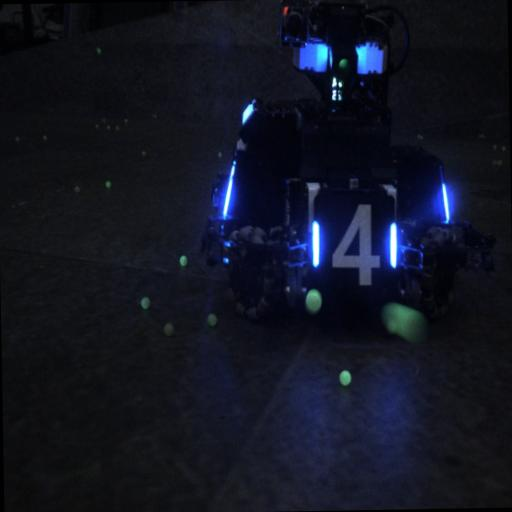target: (304, 180, 402, 298)
